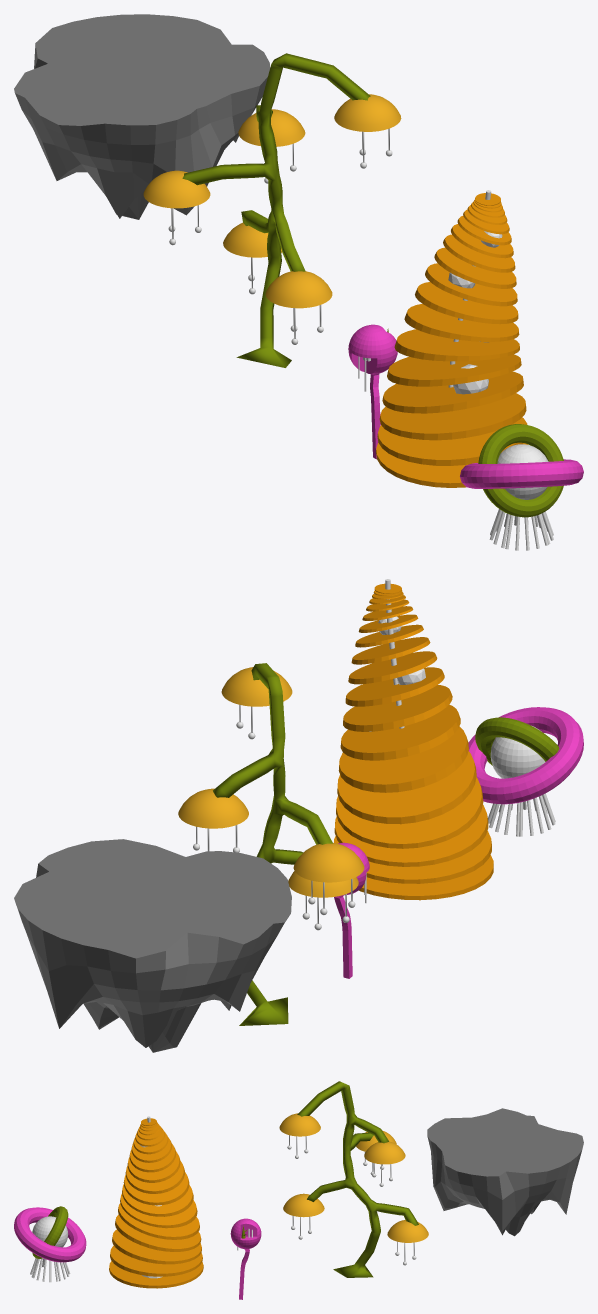
The model's file is uploads_files_2679461_AssetPack.fbx.
3 renders of one model, top to bottom at view 1: azimuth 30°, elevation 25°; view 2: azimuth 150°, elevation 25°; view 3: azimuth 270°, elevation 25°, orthographic. The views are drawn at different scales.
Parts seen in each view (by area): view 1: Sphere.001, Cylinder.007, Plane.001, Torus, Sphere; view 2: Sphere.001, Cylinder.007, Plane.001, Torus, Plane.002; view 3: Sphere.001, Cylinder.007, Plane.001, Torus, Sphere.
Part boxes in pixels (x1,y1,x2,y2): Sphere.001: (14, 14, 269, 219); Cylinder.007: (376, 193, 528, 487); Plane.001: (143, 53, 401, 367); Torus: (460, 424, 583, 550); Sphere: (348, 324, 397, 374); Sphere.001: (14, 839, 291, 1052); Cylinder.007: (334, 583, 493, 900); Plane.001: (178, 663, 364, 1025); Torus: (468, 707, 583, 836); Plane.002: (334, 895, 352, 978); Sphere.001: (427, 1108, 583, 1236); Cylinder.007: (109, 1118, 203, 1288); Plane.001: (279, 1081, 428, 1277); Torus: (14, 1206, 86, 1282); Sphere: (230, 1218, 261, 1249).
Bounding box in the file's own units: 1202 × 1755 × 4244.
